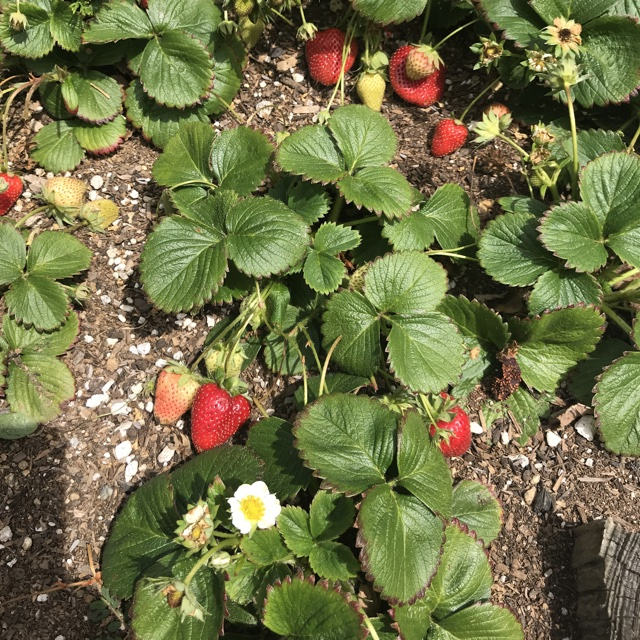ripe_strawberry: (190, 380, 253, 456), (388, 40, 446, 110), (303, 27, 360, 91), (426, 392, 473, 457), (428, 118, 470, 161), (1, 172, 26, 219)
unripe_strawberry: (151, 362, 204, 428), (204, 342, 246, 389), (42, 177, 89, 217), (355, 70, 388, 116), (405, 46, 441, 85), (82, 200, 121, 231), (483, 103, 514, 128), (348, 261, 371, 294)
